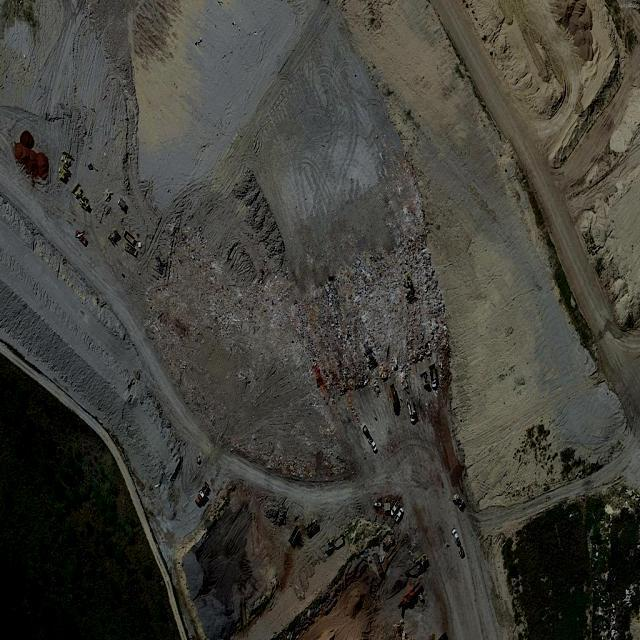dump_site: (283, 231, 449, 408)
